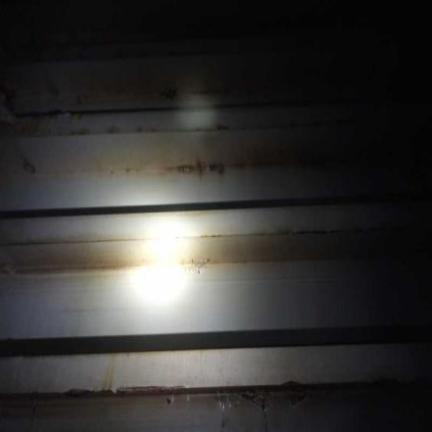karat: (0, 122, 230, 154)
